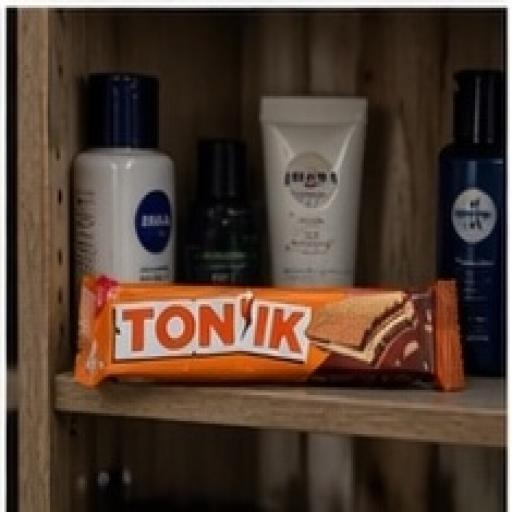tonik: (26, 189, 471, 448)
